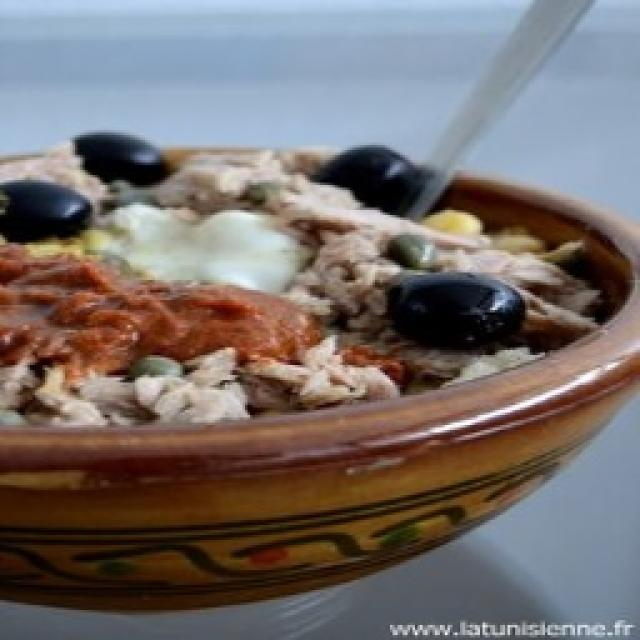Lablabi: (0, 135, 615, 435)
